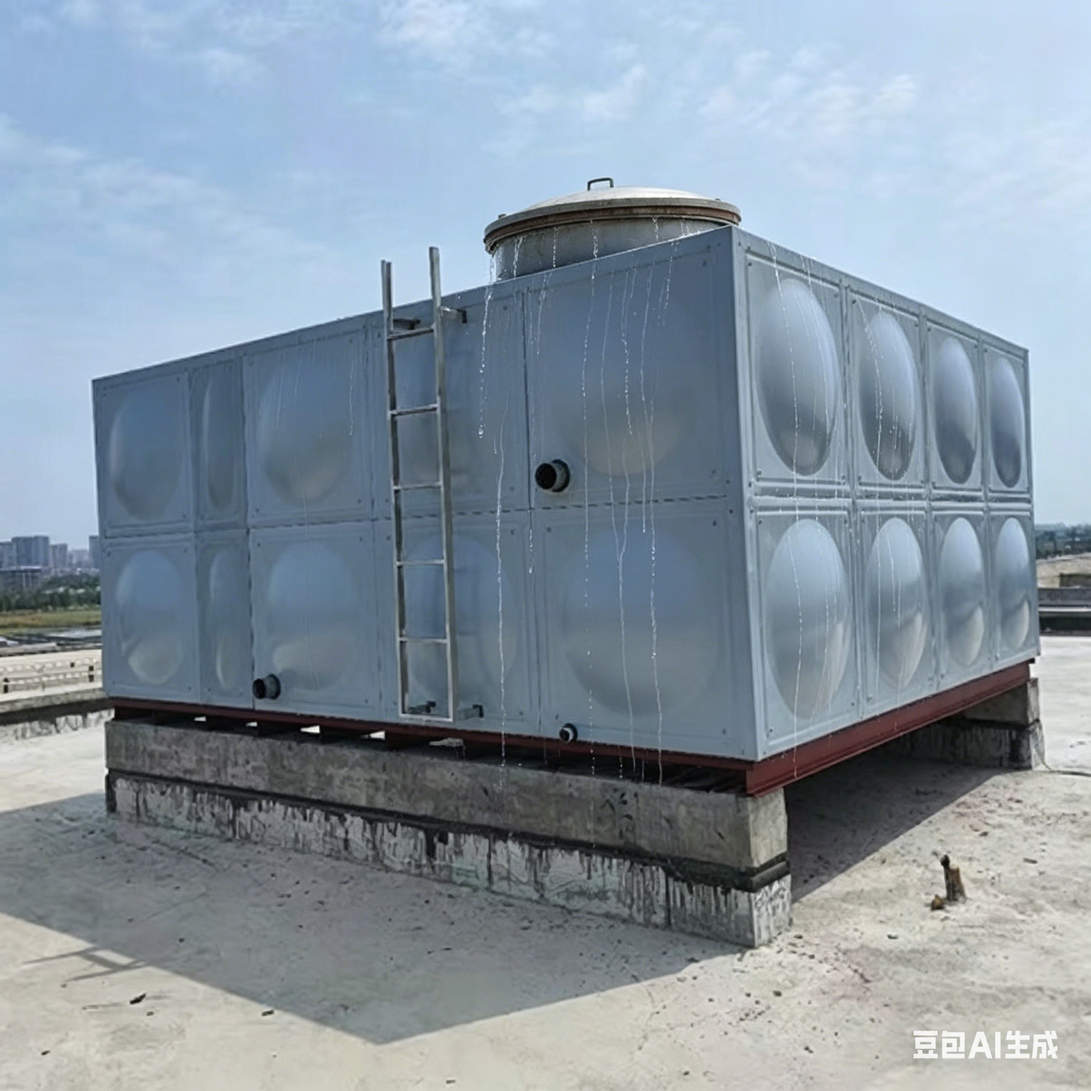Leakage: (523, 233, 680, 804), (758, 251, 864, 798), (872, 287, 949, 730), (465, 229, 515, 786)
